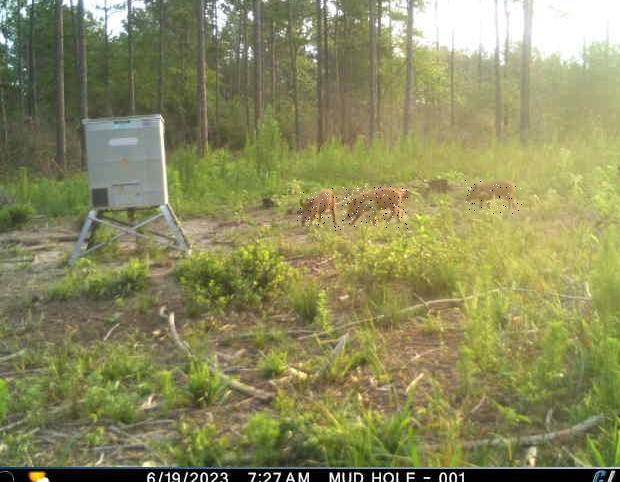Hog: (339, 187, 409, 230), (466, 179, 524, 215), (298, 188, 342, 231)
